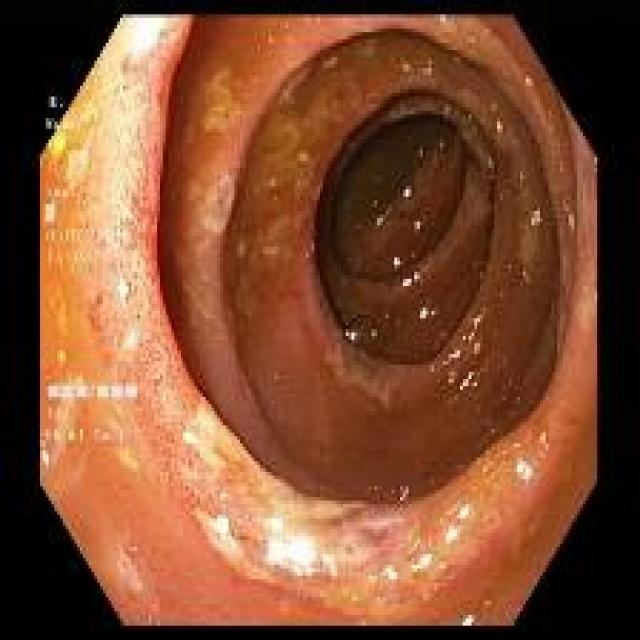ulcerative-colitis: (40, 17, 596, 623)
